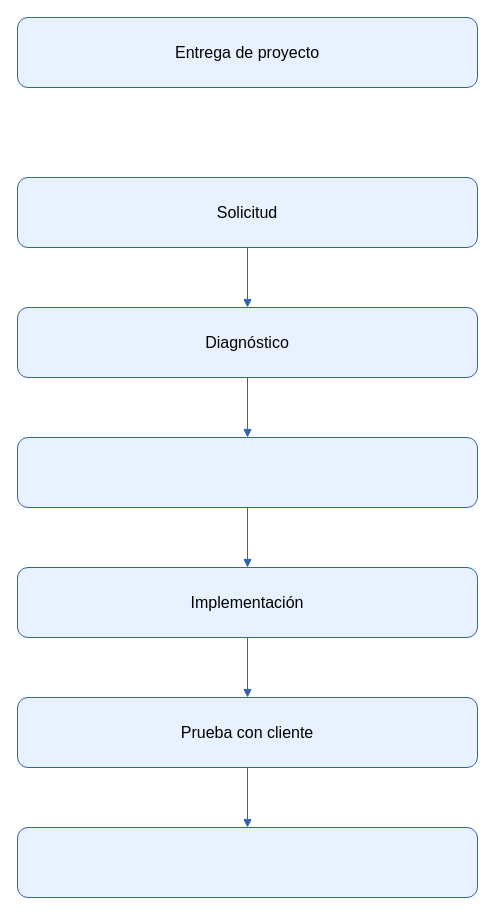
This 495x915 diagram has some shape labels left out. The centre of each missing label's shape, as x and y in pixels:
Alcance aprobado: the point at 247,472
Entrega y soporte: the point at 247,862
